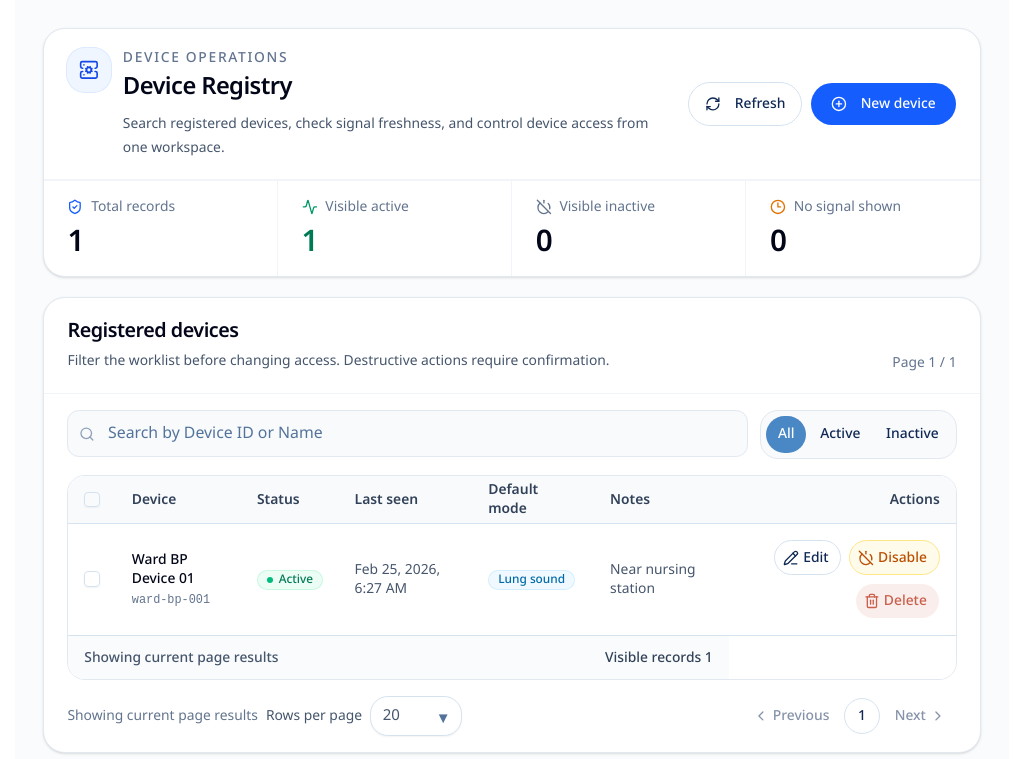
Scenario: Device registry flow › registers a device
Expected: the text "Ward BP Device 01" is shown, x1=132 y1=549 x2=195 y2=590
Click the button "New device" at (883, 104), box x1=810 y1=82 x2=957 y2=126
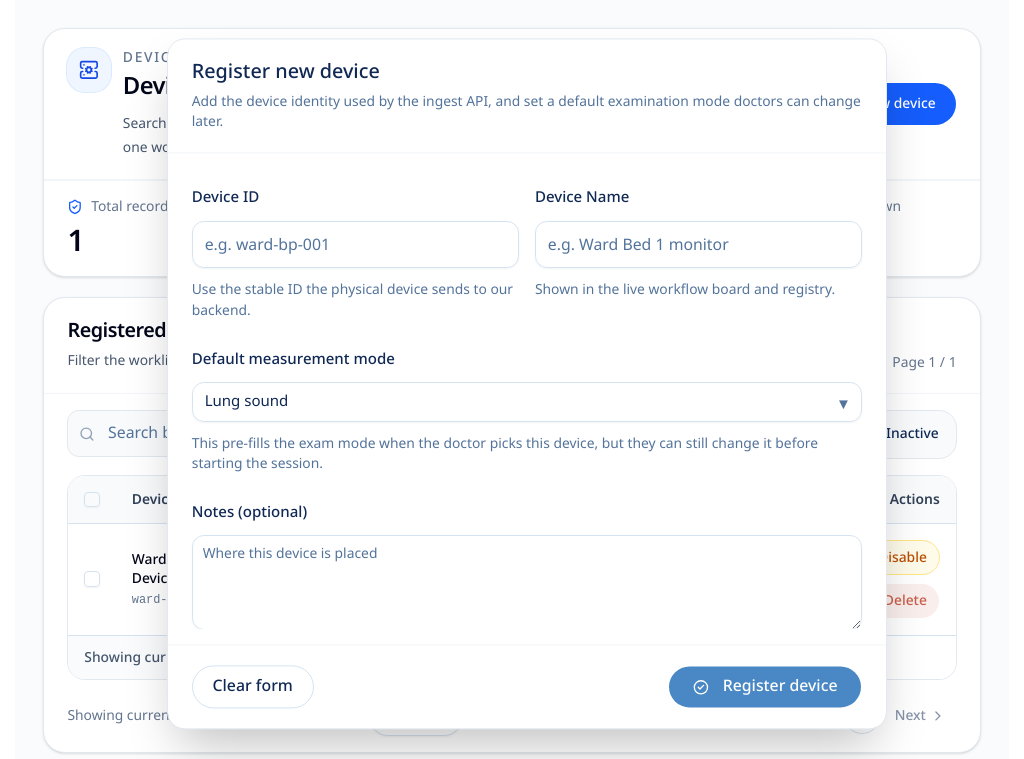
Now the heading "Register new device" is shown, box x1=192 y1=57 x2=380 y2=87
Type "ward-bp-002" into the field with placeholder "e.g. ward-bp-001" at (355, 245), box x1=192 y1=221 x2=519 y2=269
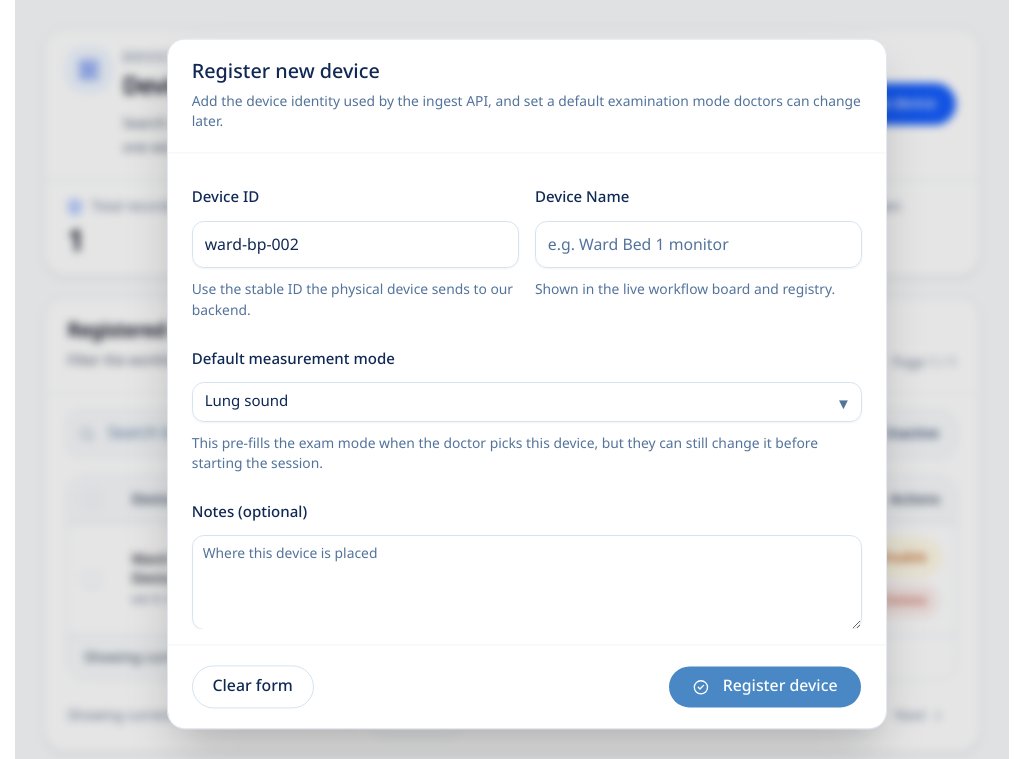
Type "Ward BP Device 02" into the field with placeholder "e.g. Ward Bed 1 monitor" at (699, 245), box x1=535 y1=221 x2=862 y2=269
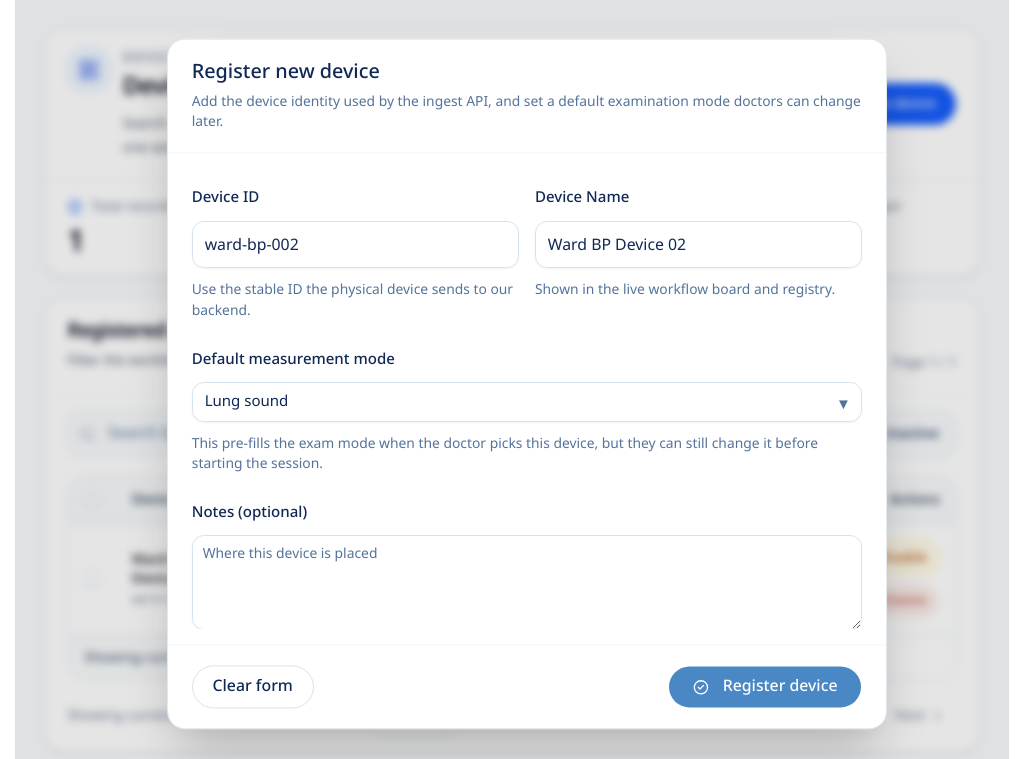
Type "ICU zone A" into the text box with placeholder "Where this device is placed" at (527, 583), box x1=192 y1=536 x2=862 y2=631
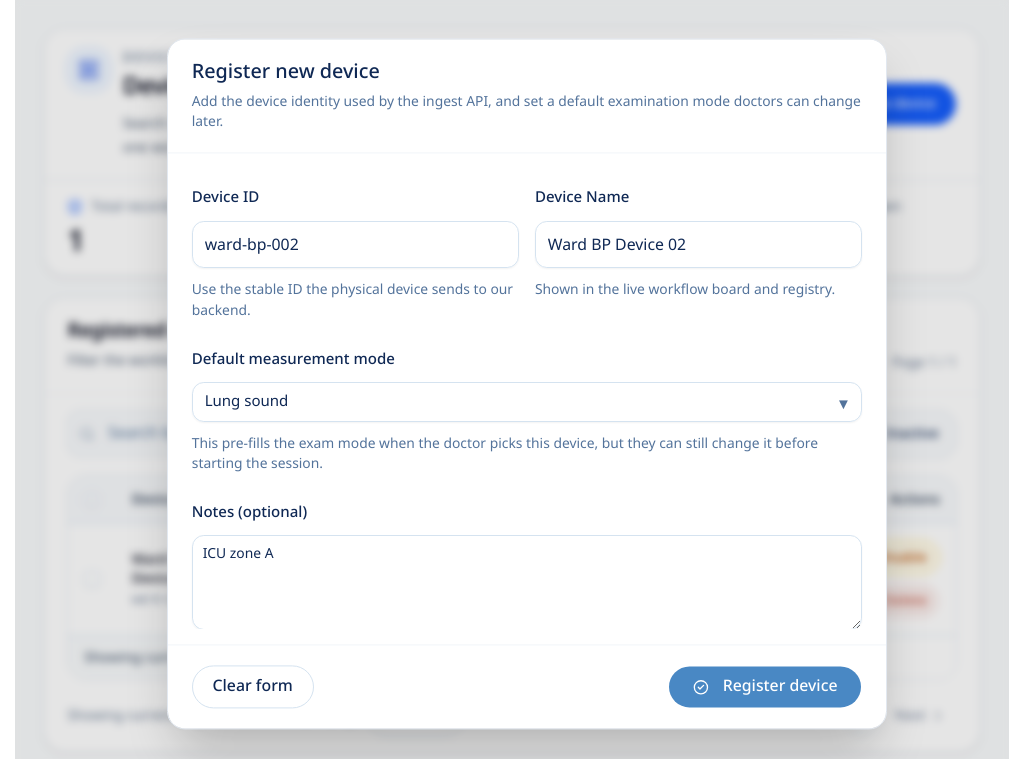
Click the button "Register device" at (765, 687), box x1=668 y1=665 x2=862 y2=709
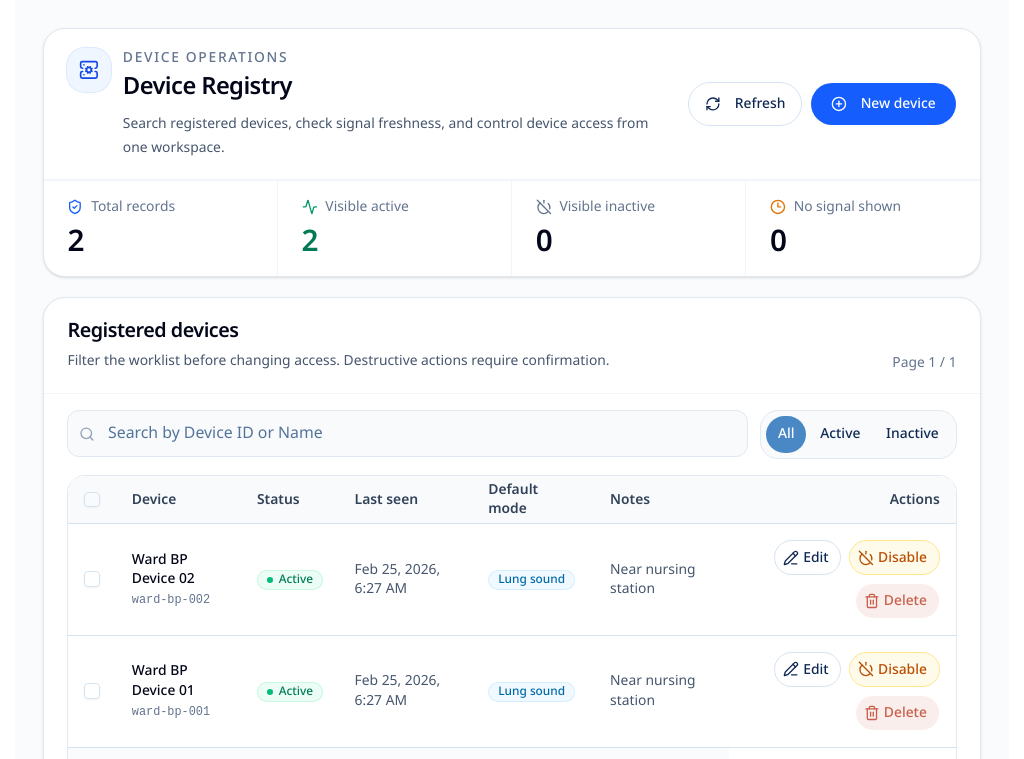
Now the text "Ward BP Device 02" is shown, box x1=132 y1=549 x2=195 y2=590
Now the text "ward-bp-002" is shown, box x1=132 y1=593 x2=210 y2=607
